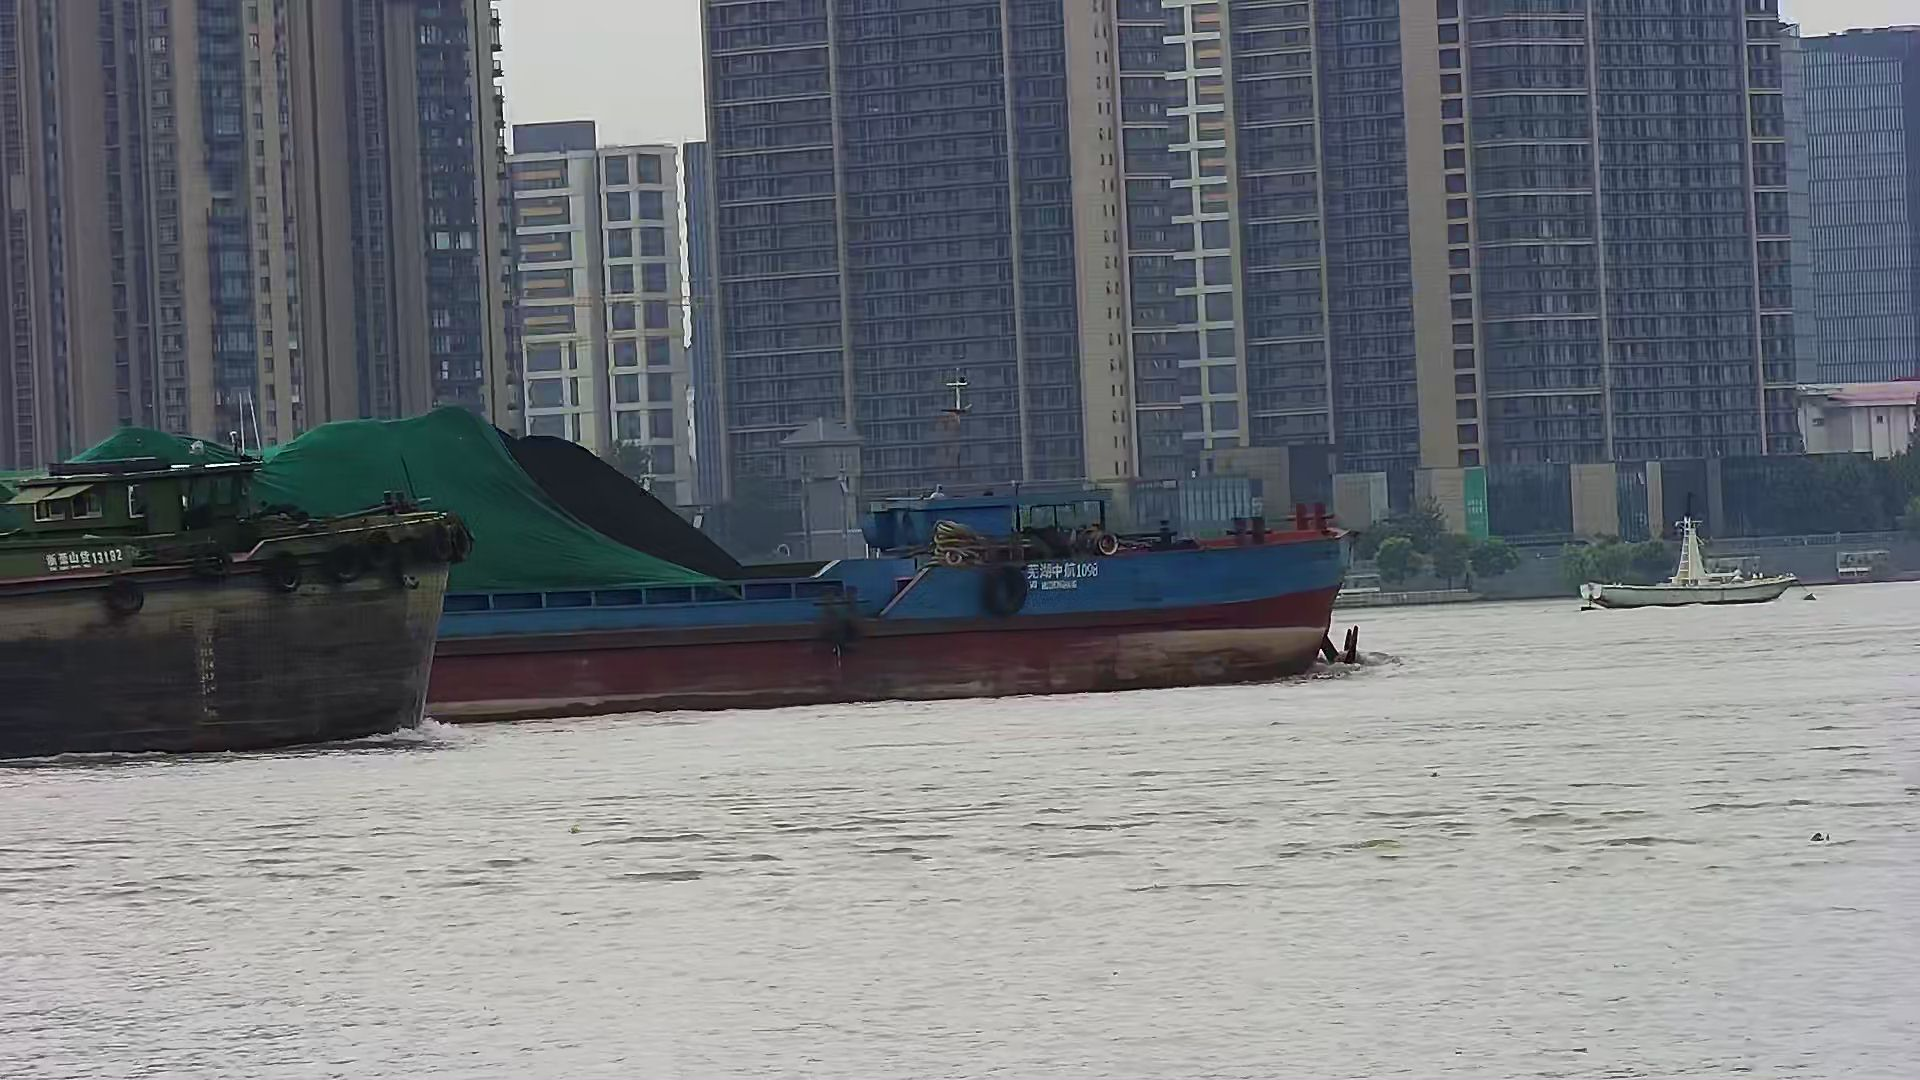boat: (1552, 473, 1858, 616)
ship: (51, 418, 1366, 727), (1, 425, 477, 785)
